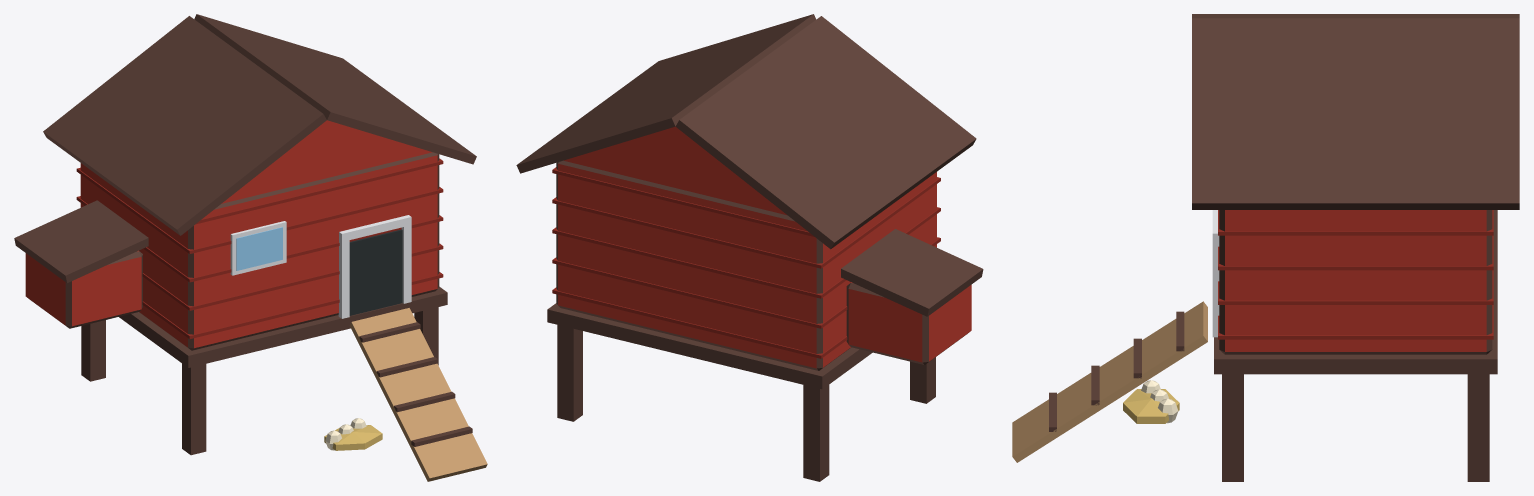
File: huehnerstall.glb
3 renders of one model, left to right at view 1: azimuth 30°, elevation 25°; view 2: azimuth 150°, elevation 25°; view 3: azimuth 270°, elevation 25°, orthographic. The views are drawn at different scales.
Visible parts, largest first — view 1: huehnerstall-m; view 2: huehnerstall-m; view 3: huehnerstall-m.
Part boxes in pixels (x1,y1,x2,y2): huehnerstall-m: (14, 14, 487, 481); huehnerstall-m: (516, 14, 983, 481); huehnerstall-m: (1012, 14, 1519, 481).
Bounding box in the file's own units: 1.85 × 1.6 × 1.86.
